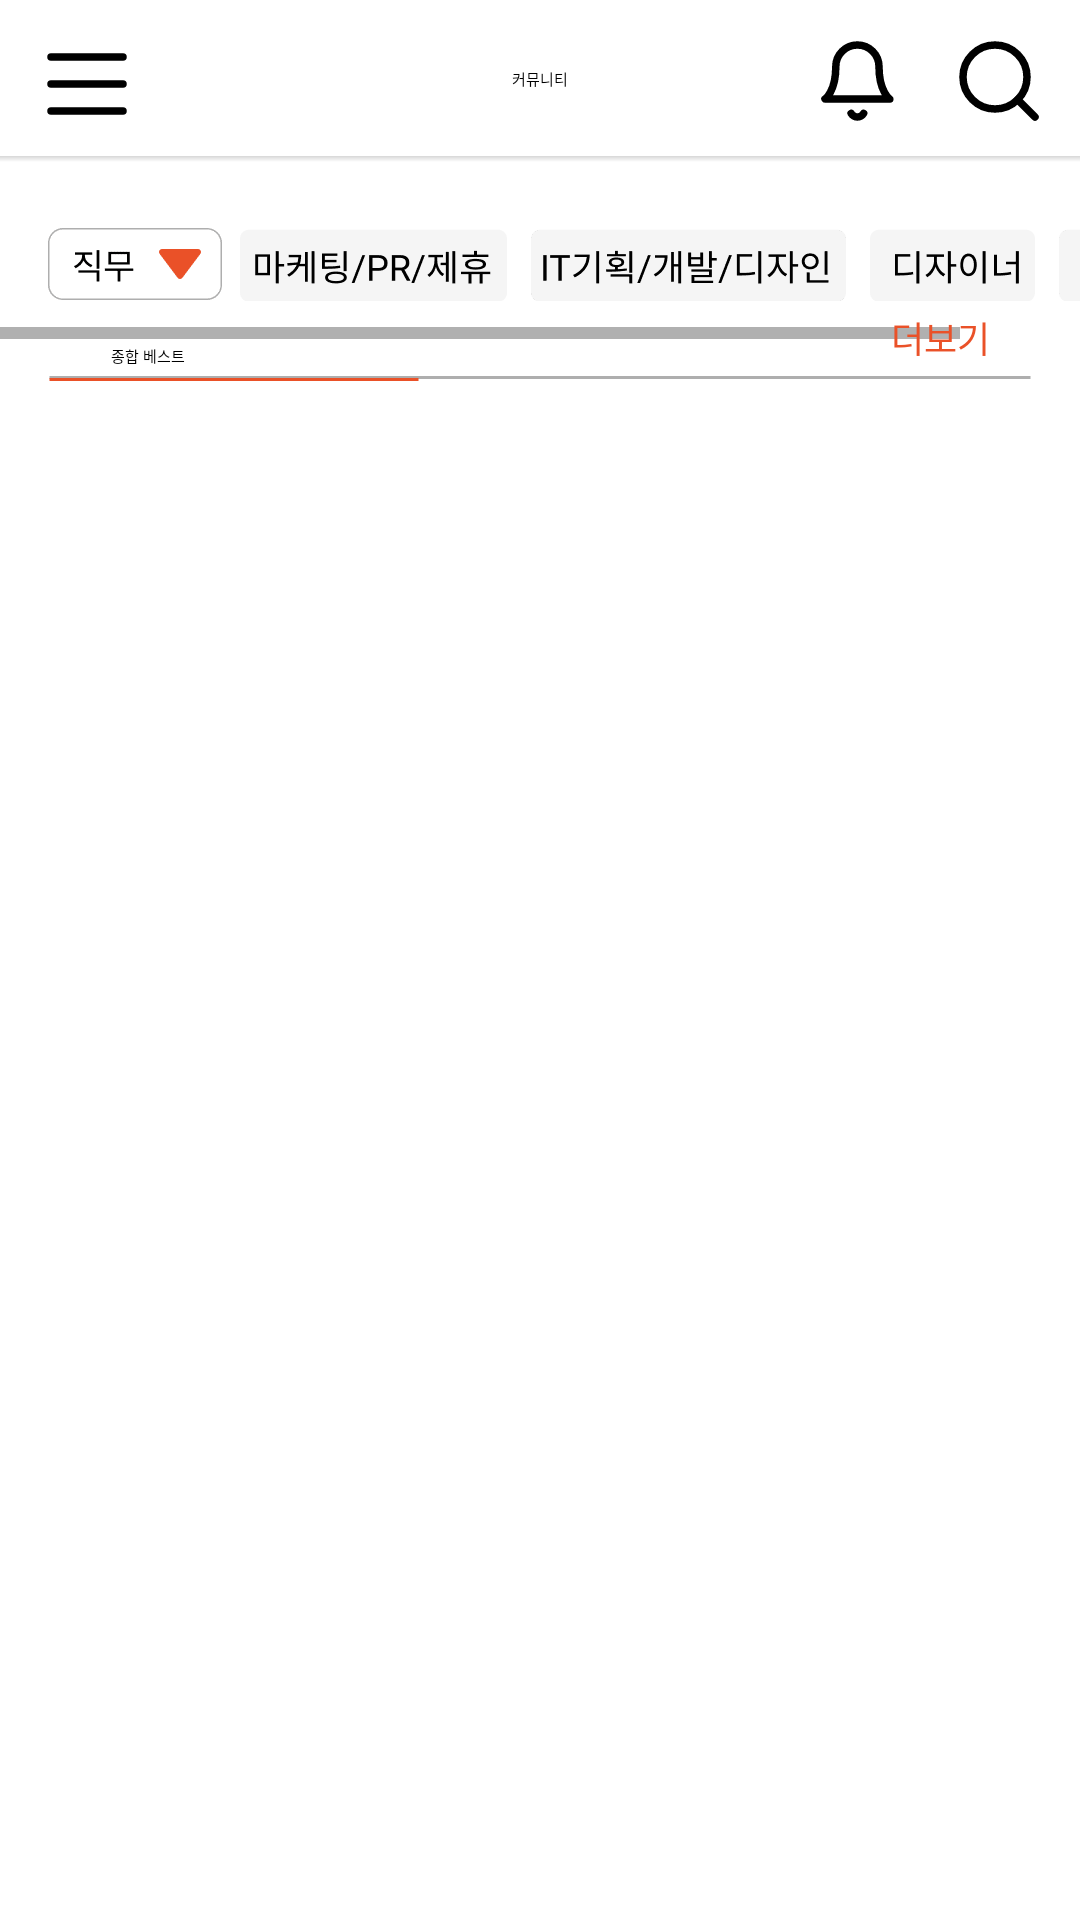

Locate icon controls on the screen. Image size 1080×1920, boxes as (x1, y1, x2, y2).
bell: (821, 41, 894, 121)
menu: (47, 53, 127, 115)
